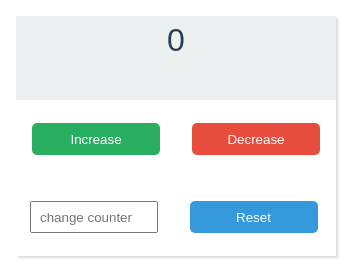
Test: "Reset" Button E2E tests › Should reset screen value to 0, after type "100" on "change input"
Type "100" into the number field with placeholder "change counter" at (94, 217), box [30,201,158,233]
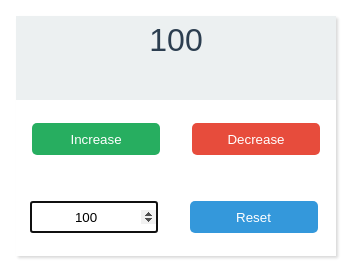
Click the button with class "resetBtn" at (254, 217), box [190,201,318,233]
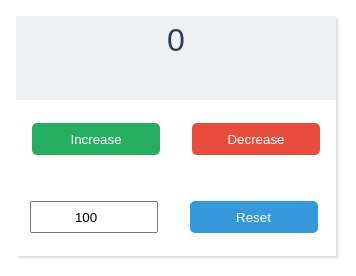
Check: the text "0" is shown, box [16,16,336,100]
